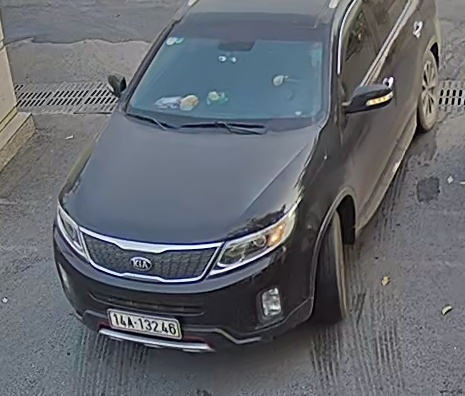vehicle plate: (105, 305, 185, 341)
